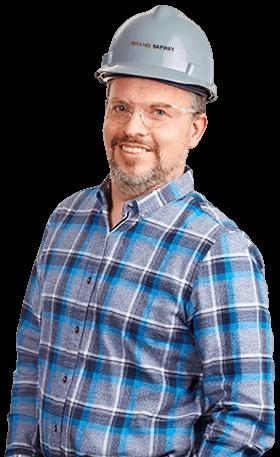helmet: (94, 4, 219, 102)
